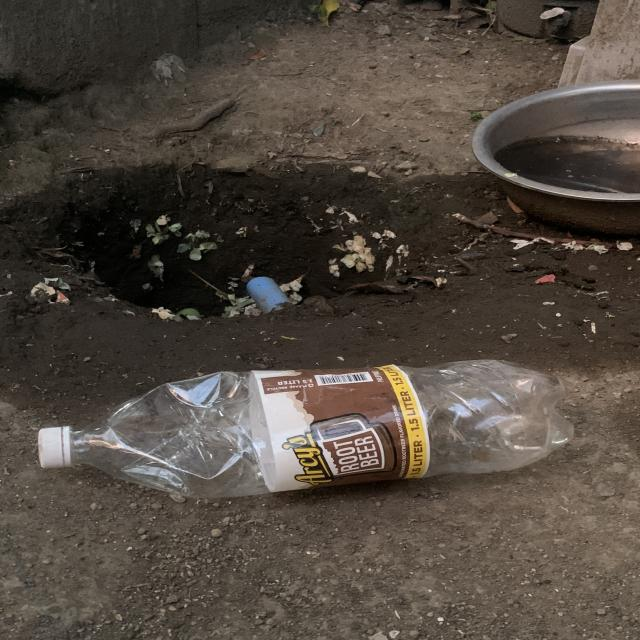Bottle: (38, 360, 574, 498)
